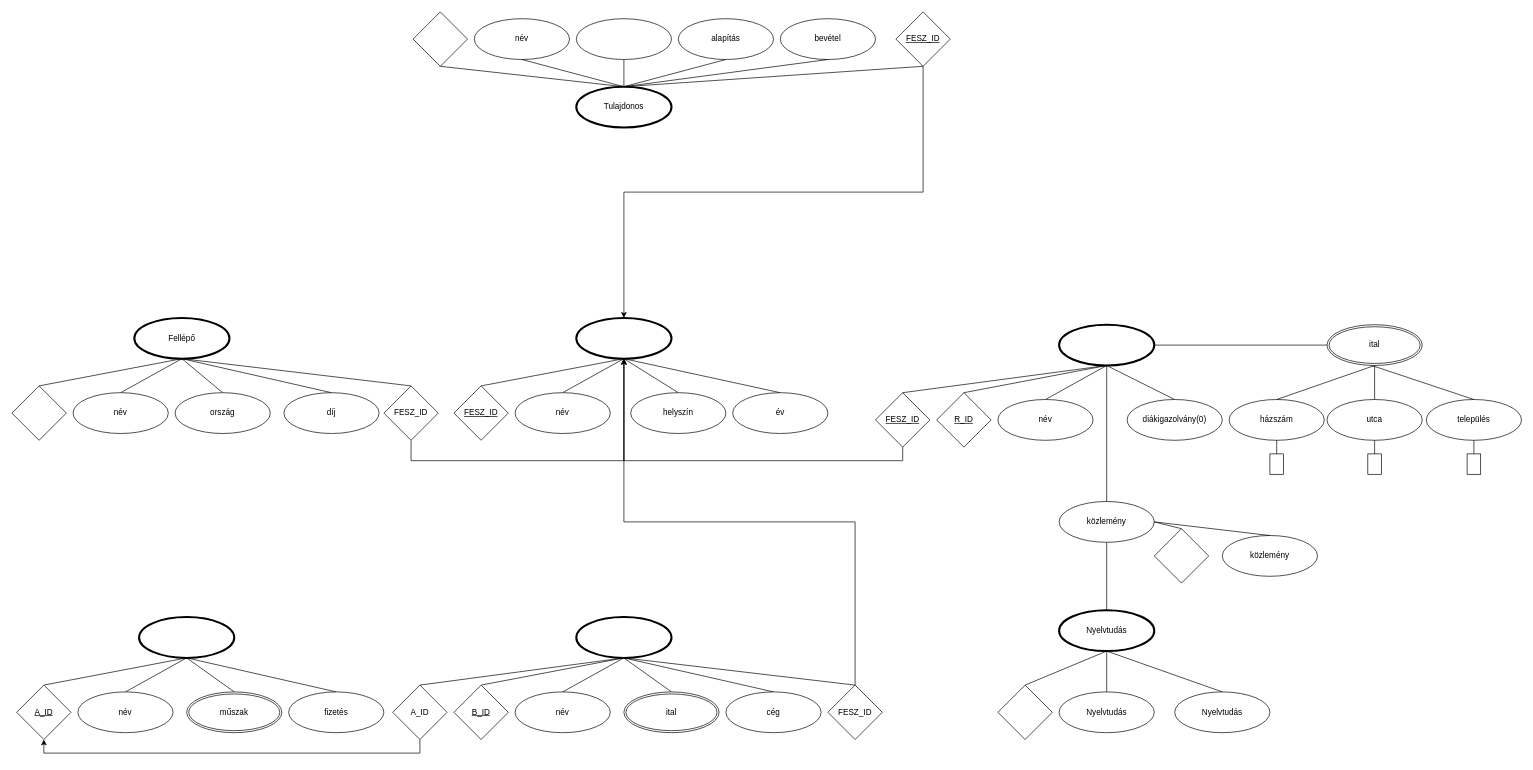
The diagram is 1533 pixels wide and 770 high, and some of its shapes have lost their labels. The centre of each missing label's shape, as x and y in pixels:
adószám: point (624, 39)
Alkalmazott: point (186, 637)
Bár: point (623, 637)
FEL_ID: point (38, 412)
Fesztival: point (623, 338)
K_ID: point (1181, 555)
NY_ID: point (1024, 712)
Részvevő: point (1106, 344)
T_ID: point (440, 38)
